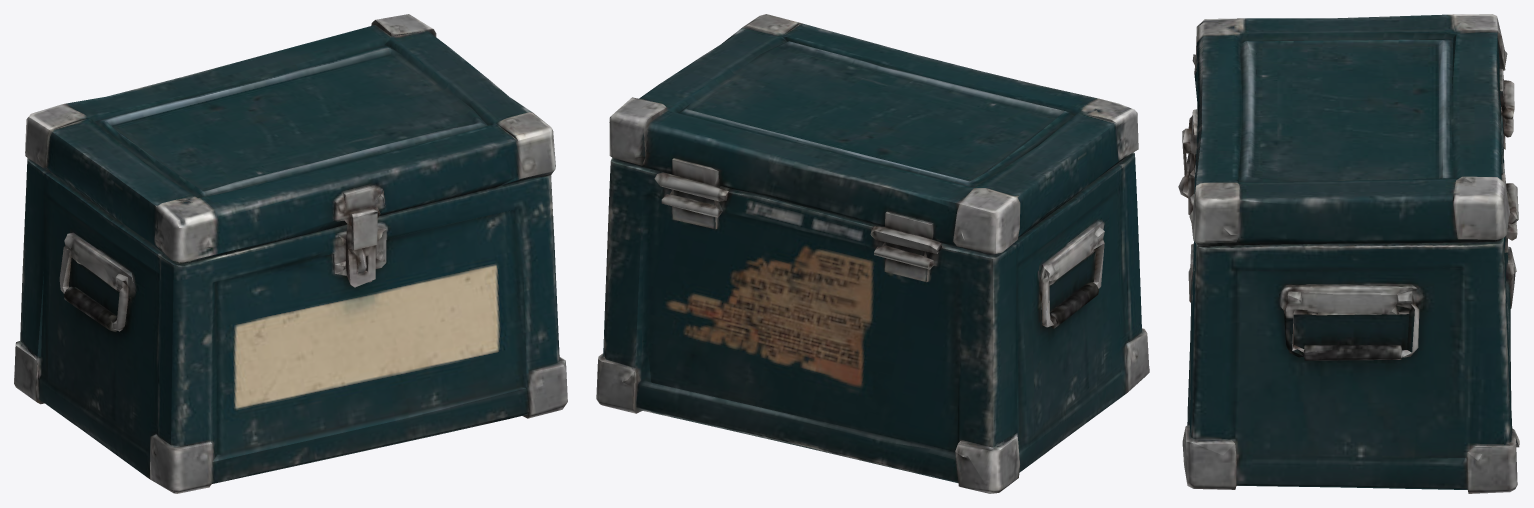
The model's file is crate.glb.
3 renders of one model, left to right at view 1: azimuth 30°, elevation 25°; view 2: azimuth 150°, elevation 25°; view 3: azimuth 270°, elevation 25°, orthographic.
Visible parts, largest first — view 1: crate; view 2: crate; view 3: crate.
Boxes of the visible parts, x1,y1,x2,y2 form: crate: [14, 14, 567, 493]; crate: [596, 14, 1149, 493]; crate: [1178, 14, 1519, 493].
Bounding box in the file's own units: 0.62 × 0.4321 × 0.4403.
1 material, 1 textured.
